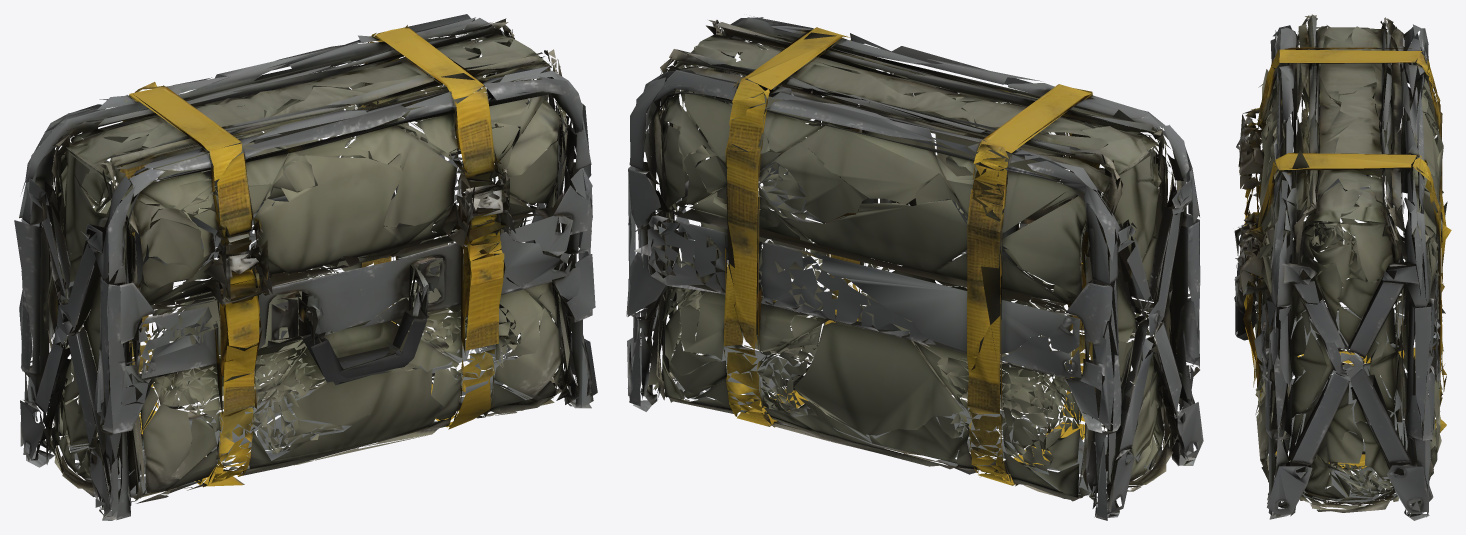
File: carry_field_cot_folded.glb
3 renders of one model, left to right at view 1: azimuth 30°, elevation 25°; view 2: azimuth 150°, elevation 25°; view 3: azimuth 270°, elevation 25°, orthographic. The views are drawn at different scales.
Visible parts, largest first — view 1: node_0; view 2: node_0; view 3: node_0.
Boxes of the visible parts, x1=… form: node_0: x1=14, y1=14, x2=597, y2=520; node_0: x1=626, y1=16, x2=1203, y2=520; node_0: x1=1234, y1=14, x2=1451, y2=520.
Bounding box in the file's own units: 0.9892 × 0.6664 × 0.4231.
Materials: 1 (1 with a texture image).
